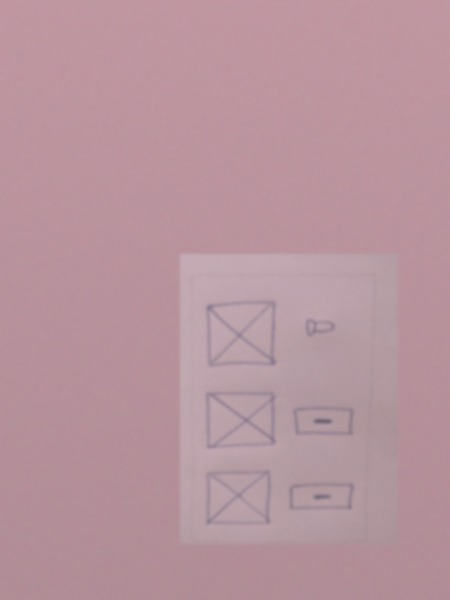button: (286, 481, 357, 516), (291, 403, 356, 440)
image: (202, 300, 282, 373), (202, 386, 282, 454), (202, 468, 274, 530)
switch: (304, 316, 337, 343)
